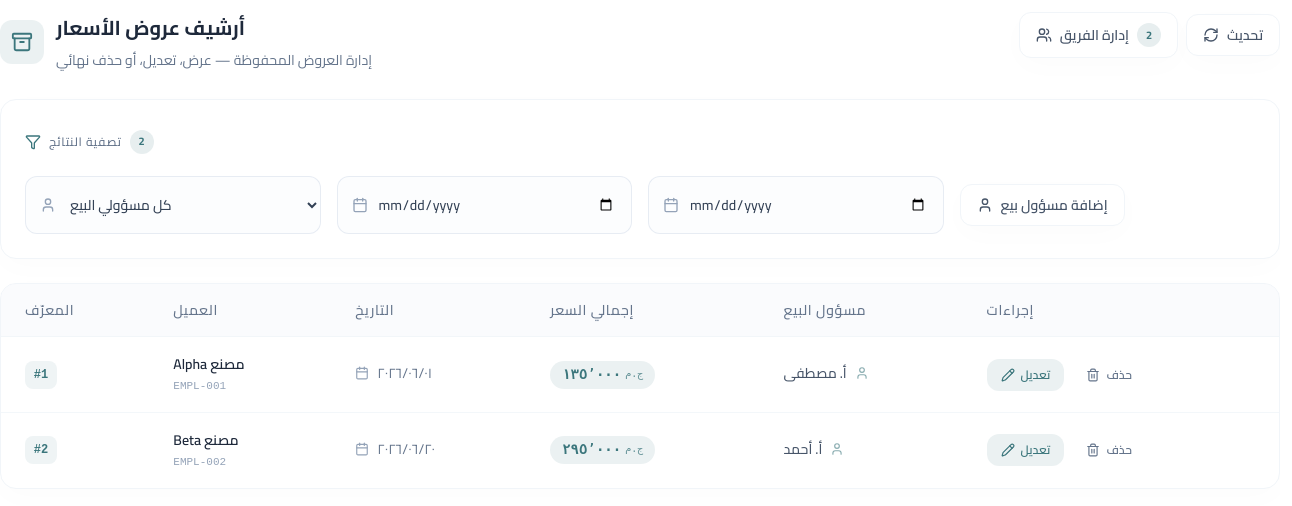
Scenario: ArchivedQuotesList filtering › updates table when date range filters are applied
Expected: the text "مصنع Alpha" is shown, [173, 351, 245, 377]
Type "2026-06-15" into the date field named "من تاريخ" at coordinates (484, 205), box [338, 179, 631, 232]
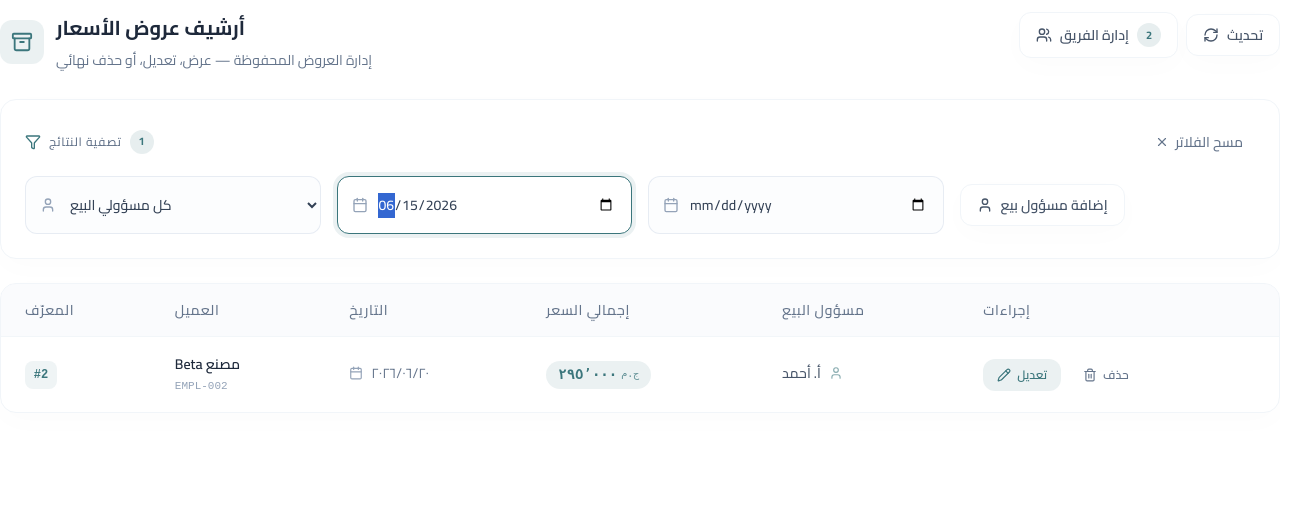
Expected: the text "مصنع Beta" is shown, [175, 351, 240, 377]
Expected: the text "مصنع Alpha" is gone
